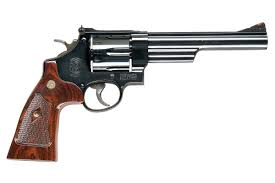gun: (7, 22, 269, 163)
